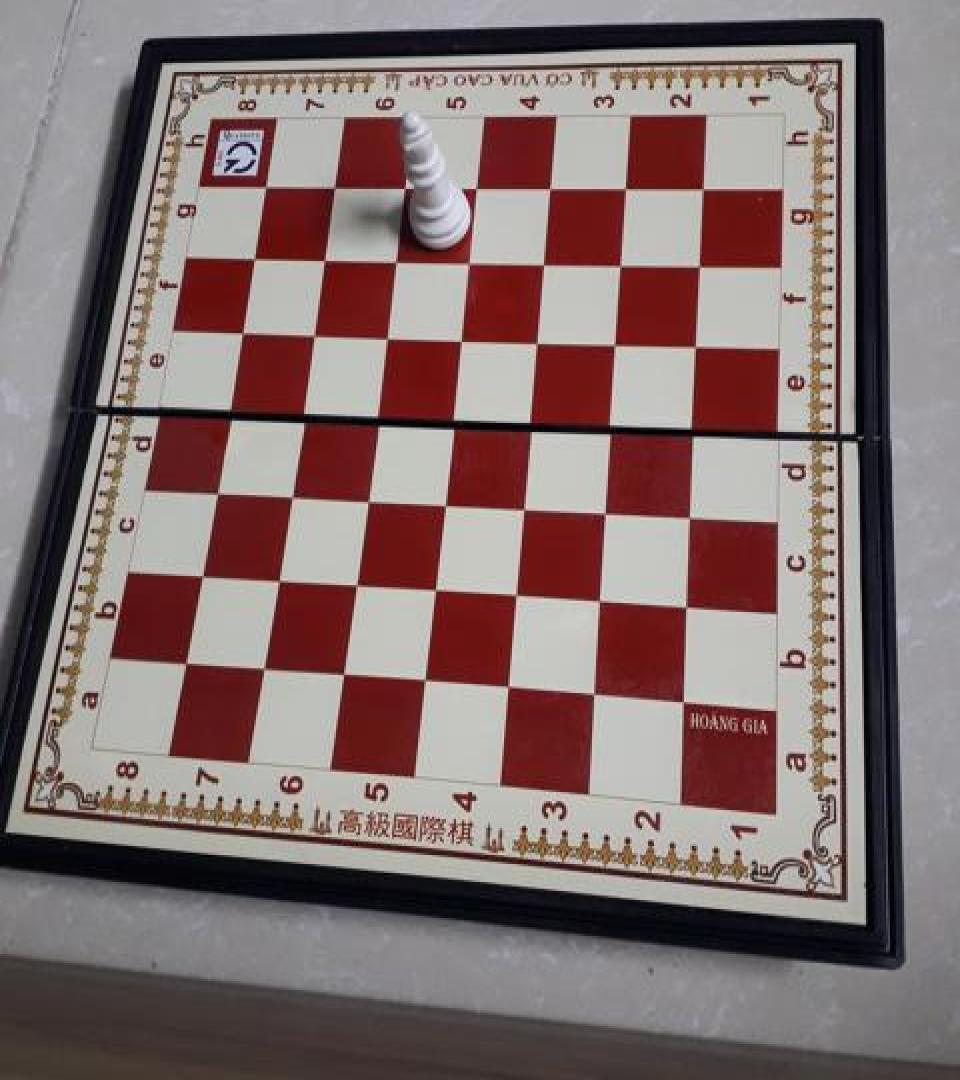xcorner: (329, 659, 357, 691), (411, 666, 439, 698), (581, 679, 609, 711), (670, 686, 698, 718), (187, 559, 215, 591), (341, 569, 369, 601), (503, 579, 531, 611), (587, 585, 615, 617), (275, 479, 303, 511), (430, 487, 458, 519), (510, 490, 538, 522), (592, 495, 620, 527), (677, 498, 705, 530), (287, 398, 315, 430), (362, 400, 390, 432), (517, 406, 545, 438), (598, 408, 626, 440), (227, 318, 255, 350), (299, 319, 327, 351), (524, 325, 552, 357), (603, 326, 631, 358), (684, 328, 712, 360), (239, 244, 267, 276), (310, 245, 338, 277), (381, 246, 409, 278), (455, 246, 483, 278), (530, 247, 558, 279), (608, 247, 636, 279), (251, 174, 279, 206), (320, 173, 348, 205), (391, 173, 419, 205), (463, 173, 491, 205), (537, 173, 565, 205), (612, 173, 640, 205), (690, 172, 718, 204), (172, 647, 200, 678), (250, 654, 278, 685), (495, 673, 523, 704), (263, 565, 291, 596), (421, 575, 449, 606), (674, 591, 702, 622), (201, 476, 229, 507), (351, 483, 379, 514), (214, 395, 242, 426), (438, 403, 466, 434), (681, 412, 709, 443), (372, 322, 400, 353), (447, 323, 475, 354), (687, 249, 715, 280)
